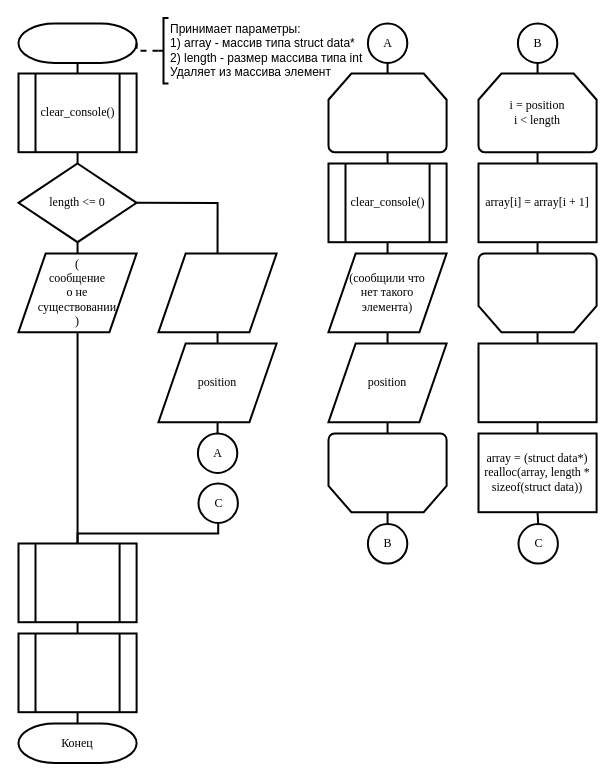
This 615x781 diagram has some shape labels left out. Here are the shapes that lost their labels. From the top down, the box of each, then its label:
(17, 22, 137, 63): void delete_element()
(327, 72, 447, 153): position < 0 || position >= length
(157, 252, 277, 333): (просим какой элемент удалить)
(477, 252, 597, 333): i++
(477, 342, 597, 423): length--
(327, 432, 447, 513): Конец цикла
(17, 542, 137, 623): pause_console()
(17, 632, 137, 713): menu(array, length)
